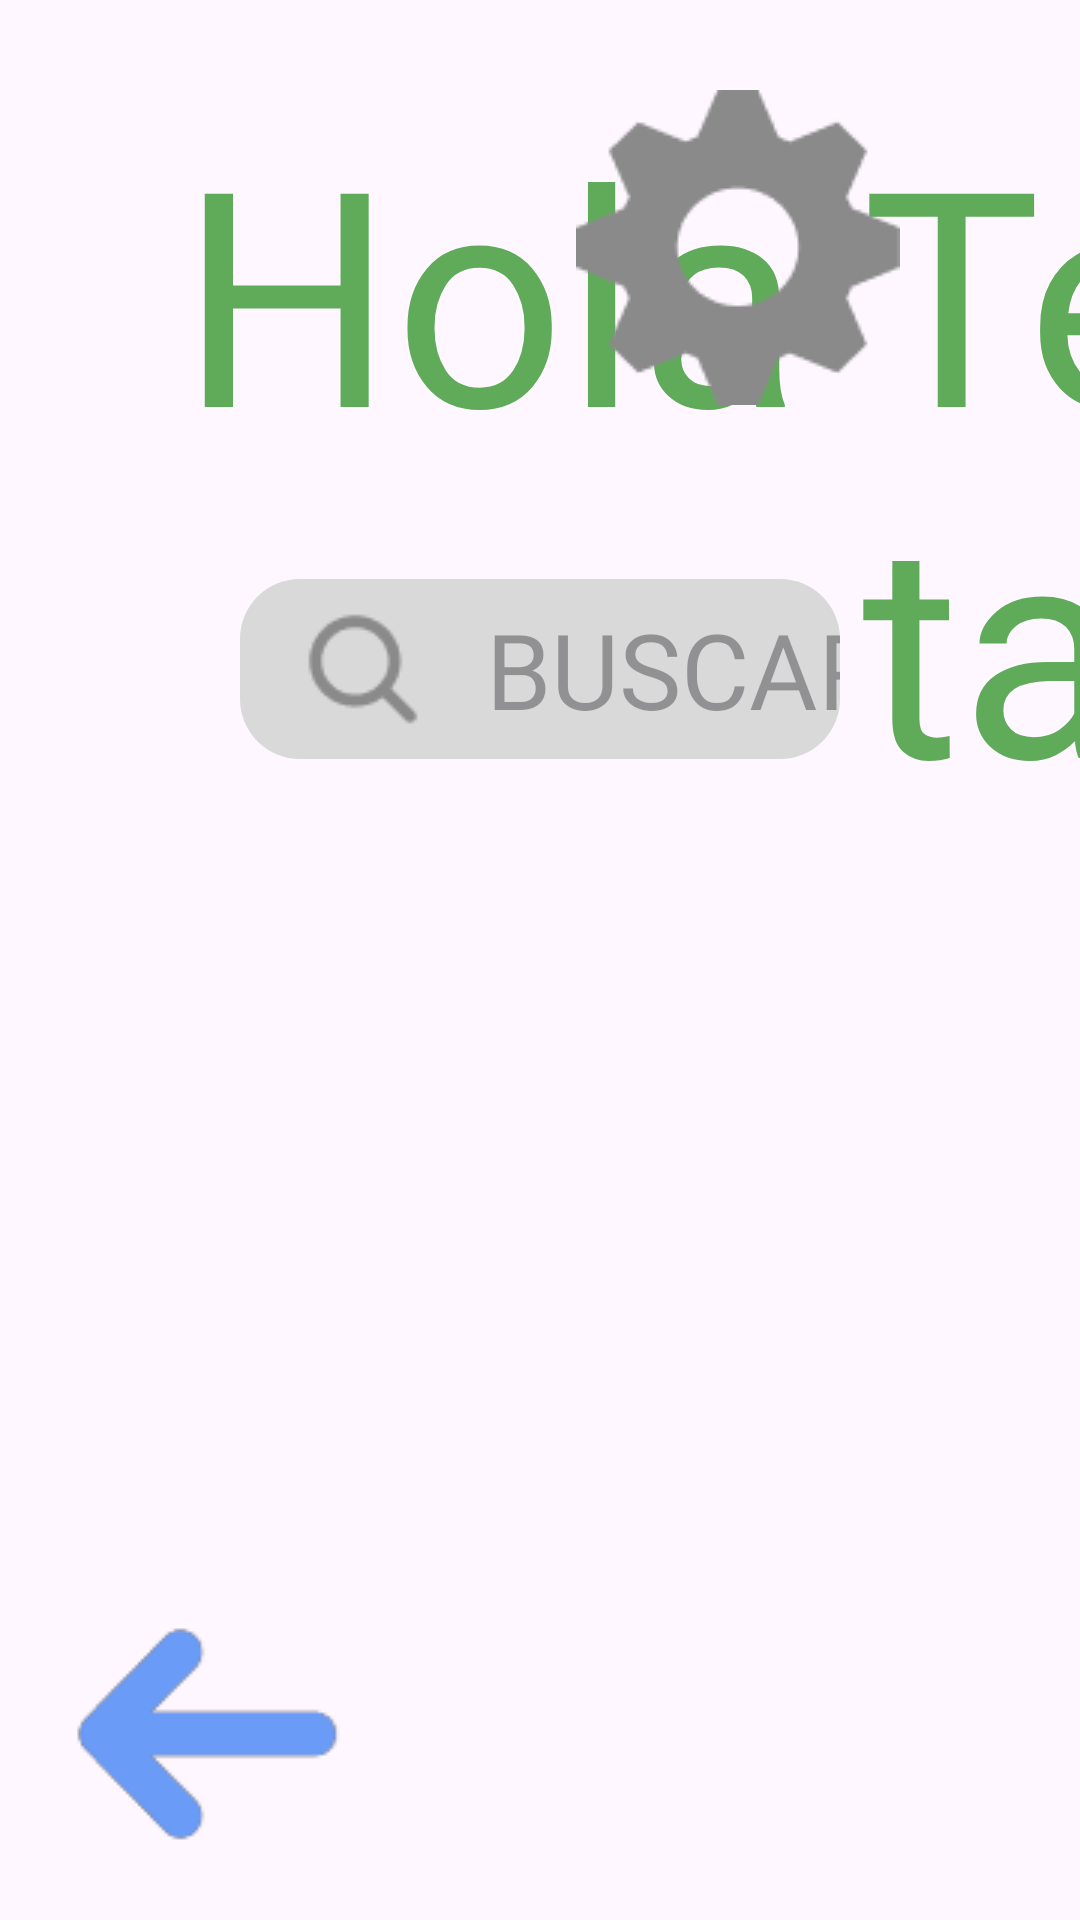

Locate icon controls on the screen. Image size 1080px×1920px, boxes as (x1, y1, x2, y2).
config: (576, 90, 900, 405)
flecha atras: (77, 1628, 337, 1840)
